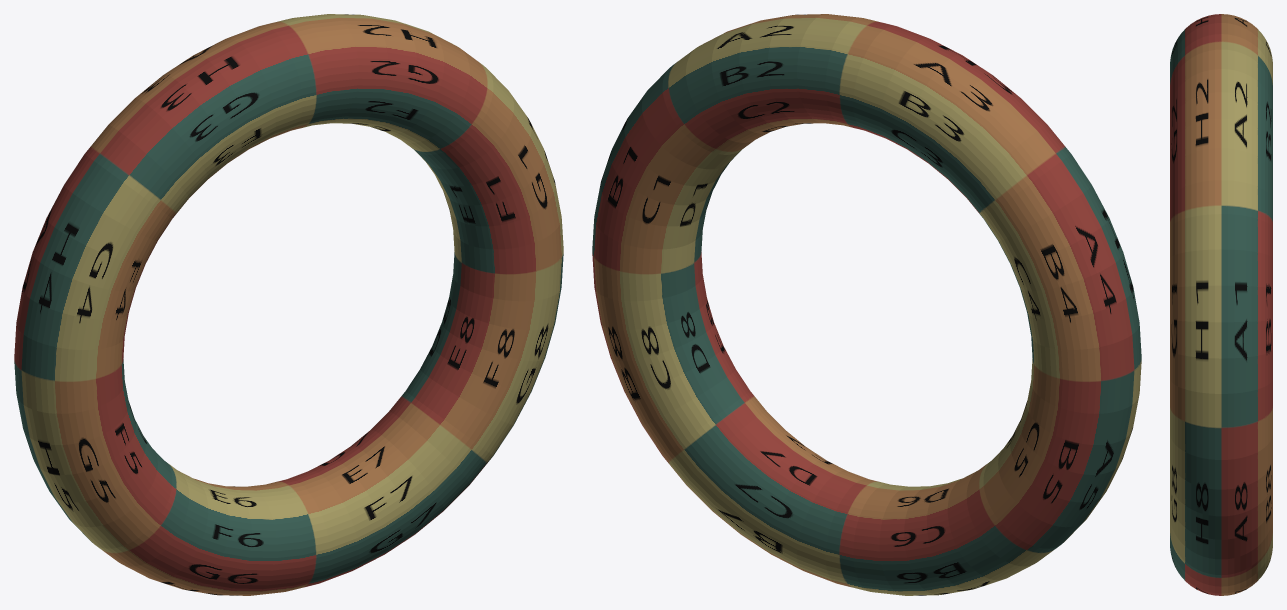
The model's file is texture_torus_R25_r14.glb.
3 views of the same model, side by side, from view 1: azimuth 30°, elevation 25°; view 2: azimuth 150°, elevation 25°; view 3: azimuth 270°, elevation 25° (orthographic). The views are drawn at different scales.
Visible parts, largest first — view 1: world; view 2: world; view 3: world.
Boxes of the visible parts, x1,y1,x2,y2 form: world: (14, 14, 563, 595); world: (592, 14, 1141, 595); world: (1170, 14, 1272, 595).
Size of the model in its own units: 32.4 by 32.34 by 5.72.
1 material, 1 textured.
